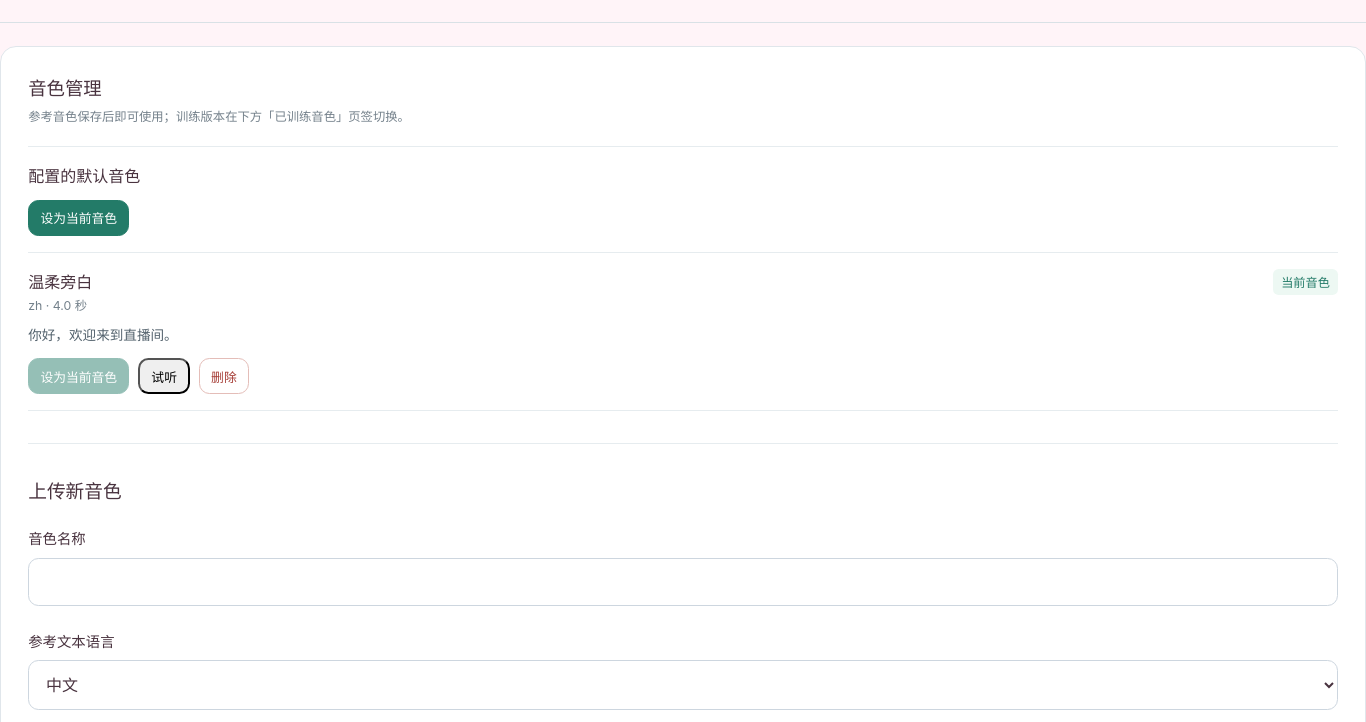
it: 音色试听进度 › 将已排队试听更新为服务端的 completed，并停止状态查询
Click the button "试听" at (164, 376), box [138,358,190,394]
Wait 6000 ms
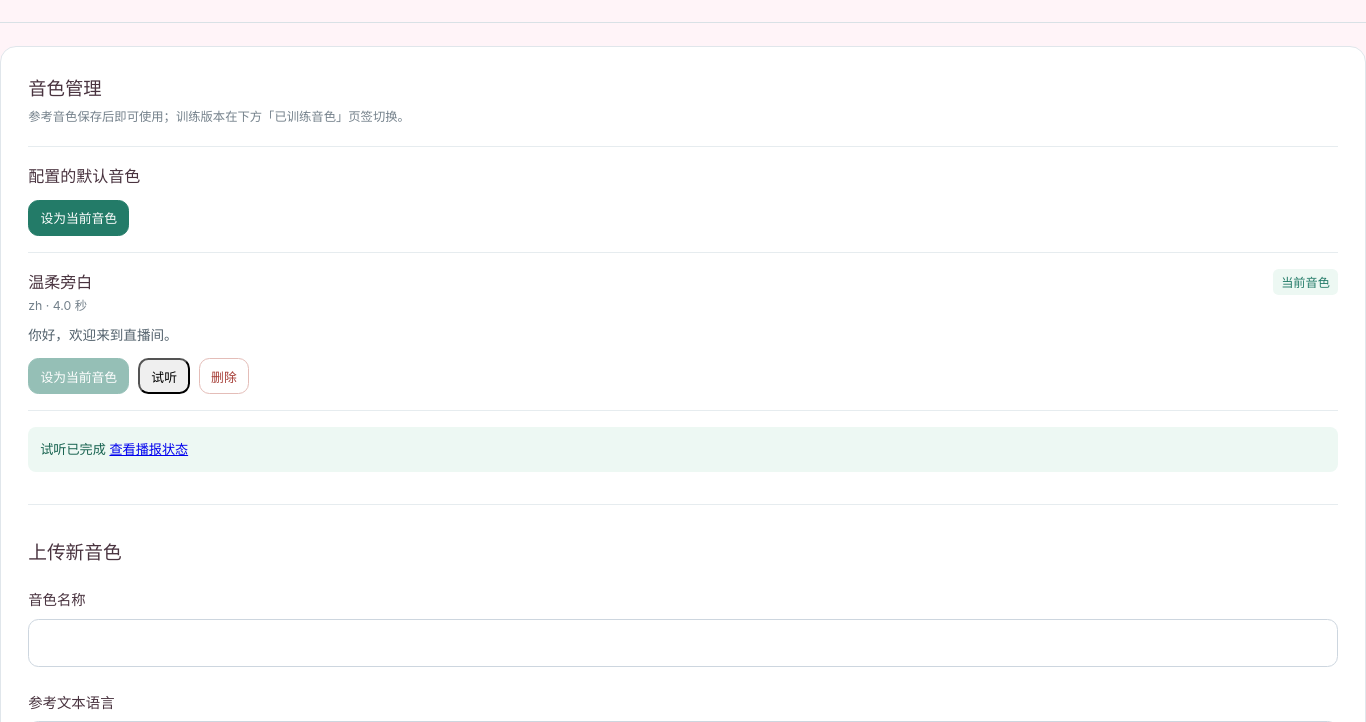
Result: the text "试听已完成 查看播报状态" is shown at [28,427,1338,472]
